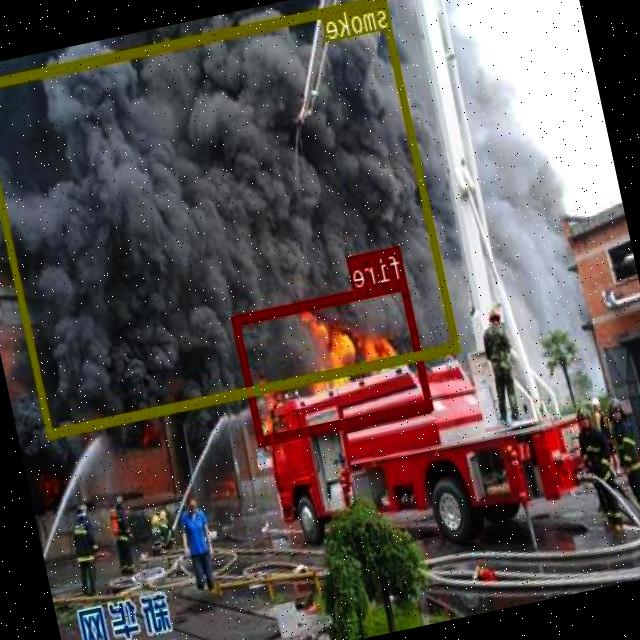fire: (232, 277, 434, 444)
smoke: (0, 0, 460, 436)
